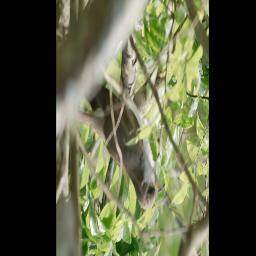Cuckoo: (74, 80, 165, 212)
